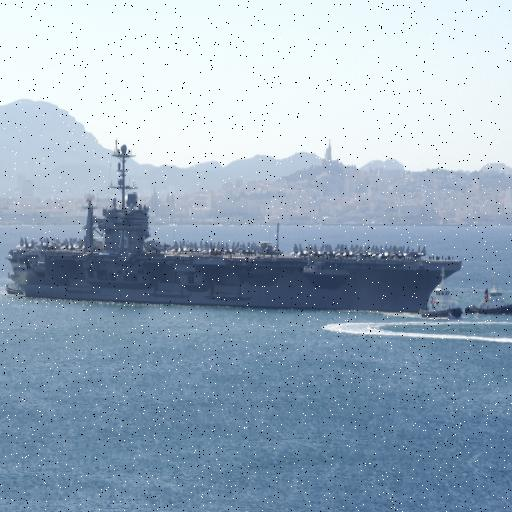Portanaves: (3, 135, 465, 319)
